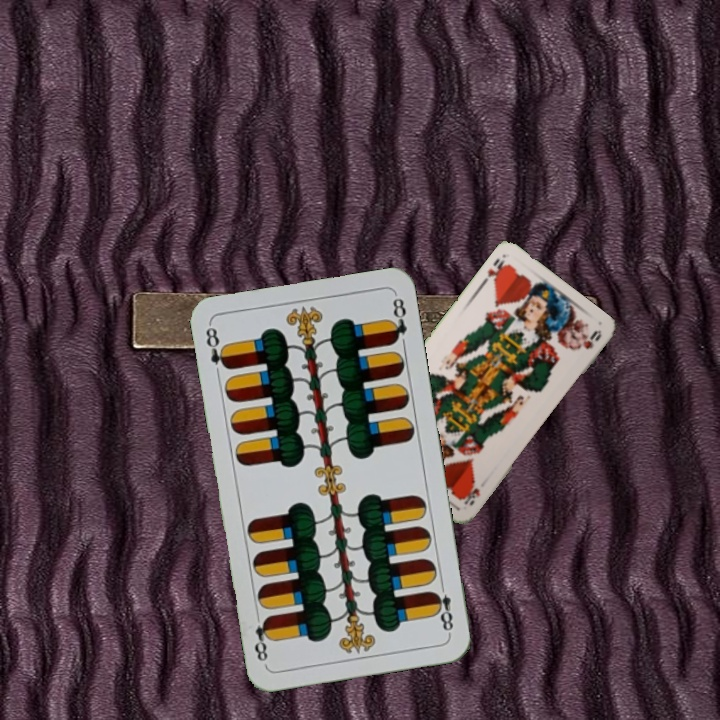E8: (429, 578, 456, 637), (201, 321, 232, 372)
HO: (477, 254, 511, 288), (460, 480, 483, 508)
